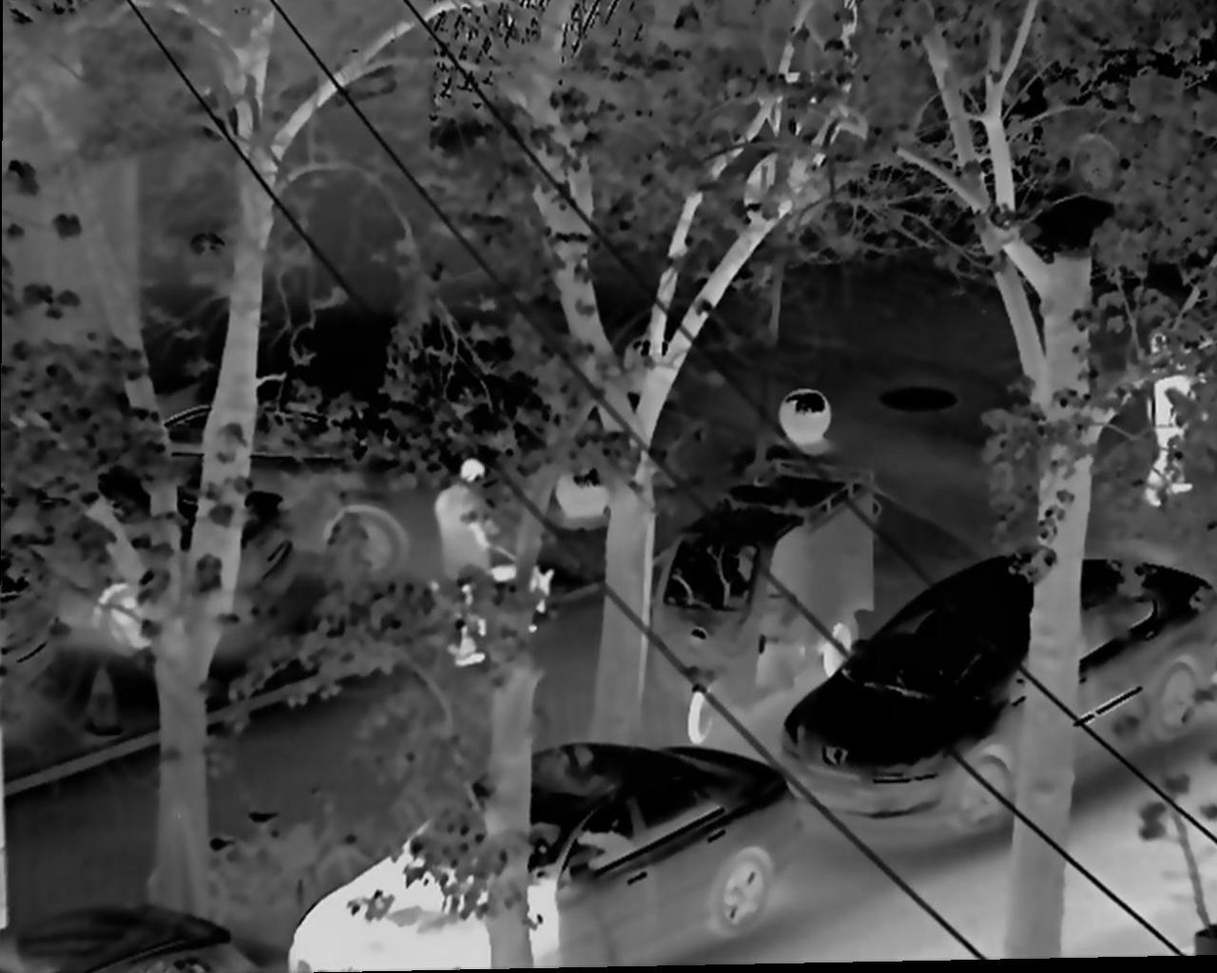person: (437, 447, 512, 670), (1145, 329, 1201, 508)
